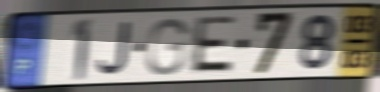1: (70, 17, 95, 82)
7: (252, 10, 295, 77)
8: (299, 12, 336, 72)
E: (186, 14, 237, 76)
G: (144, 17, 190, 77)
J: (95, 20, 132, 77)
